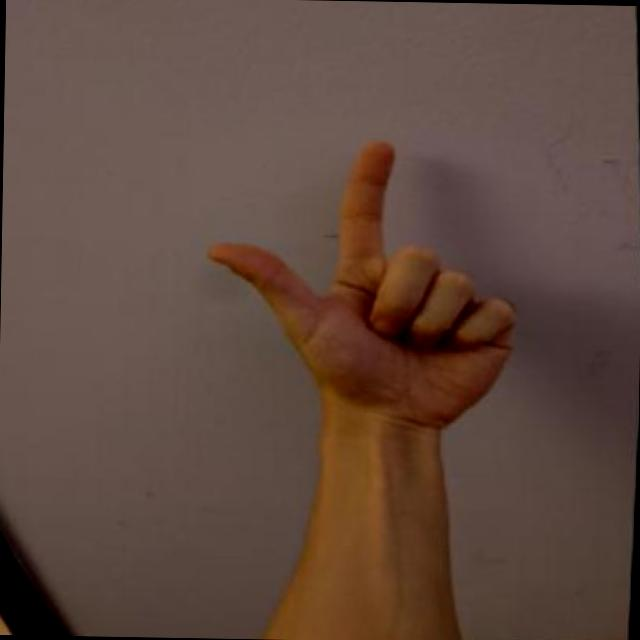L: (184, 125, 546, 467)
